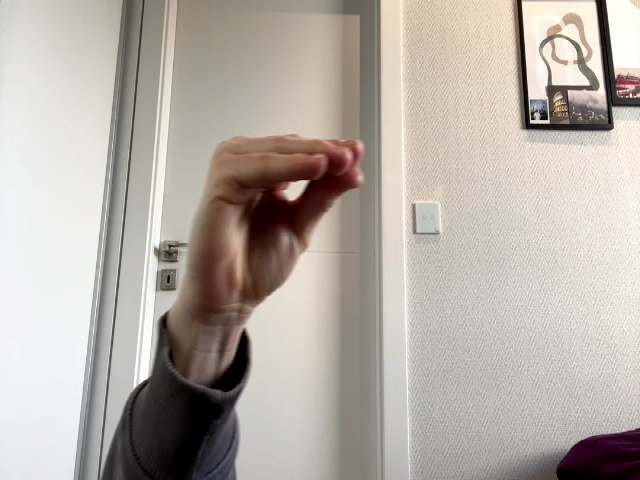E: (187, 134, 365, 324)
